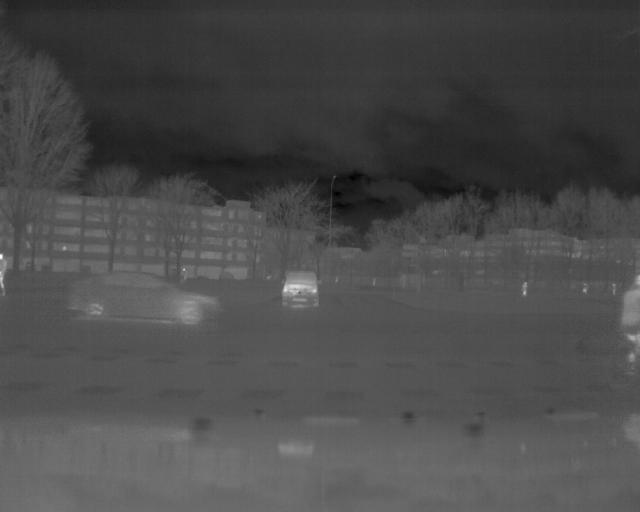car: (64, 270, 226, 325), (279, 265, 322, 309)
person: (617, 273, 640, 392), (1, 249, 8, 299)
